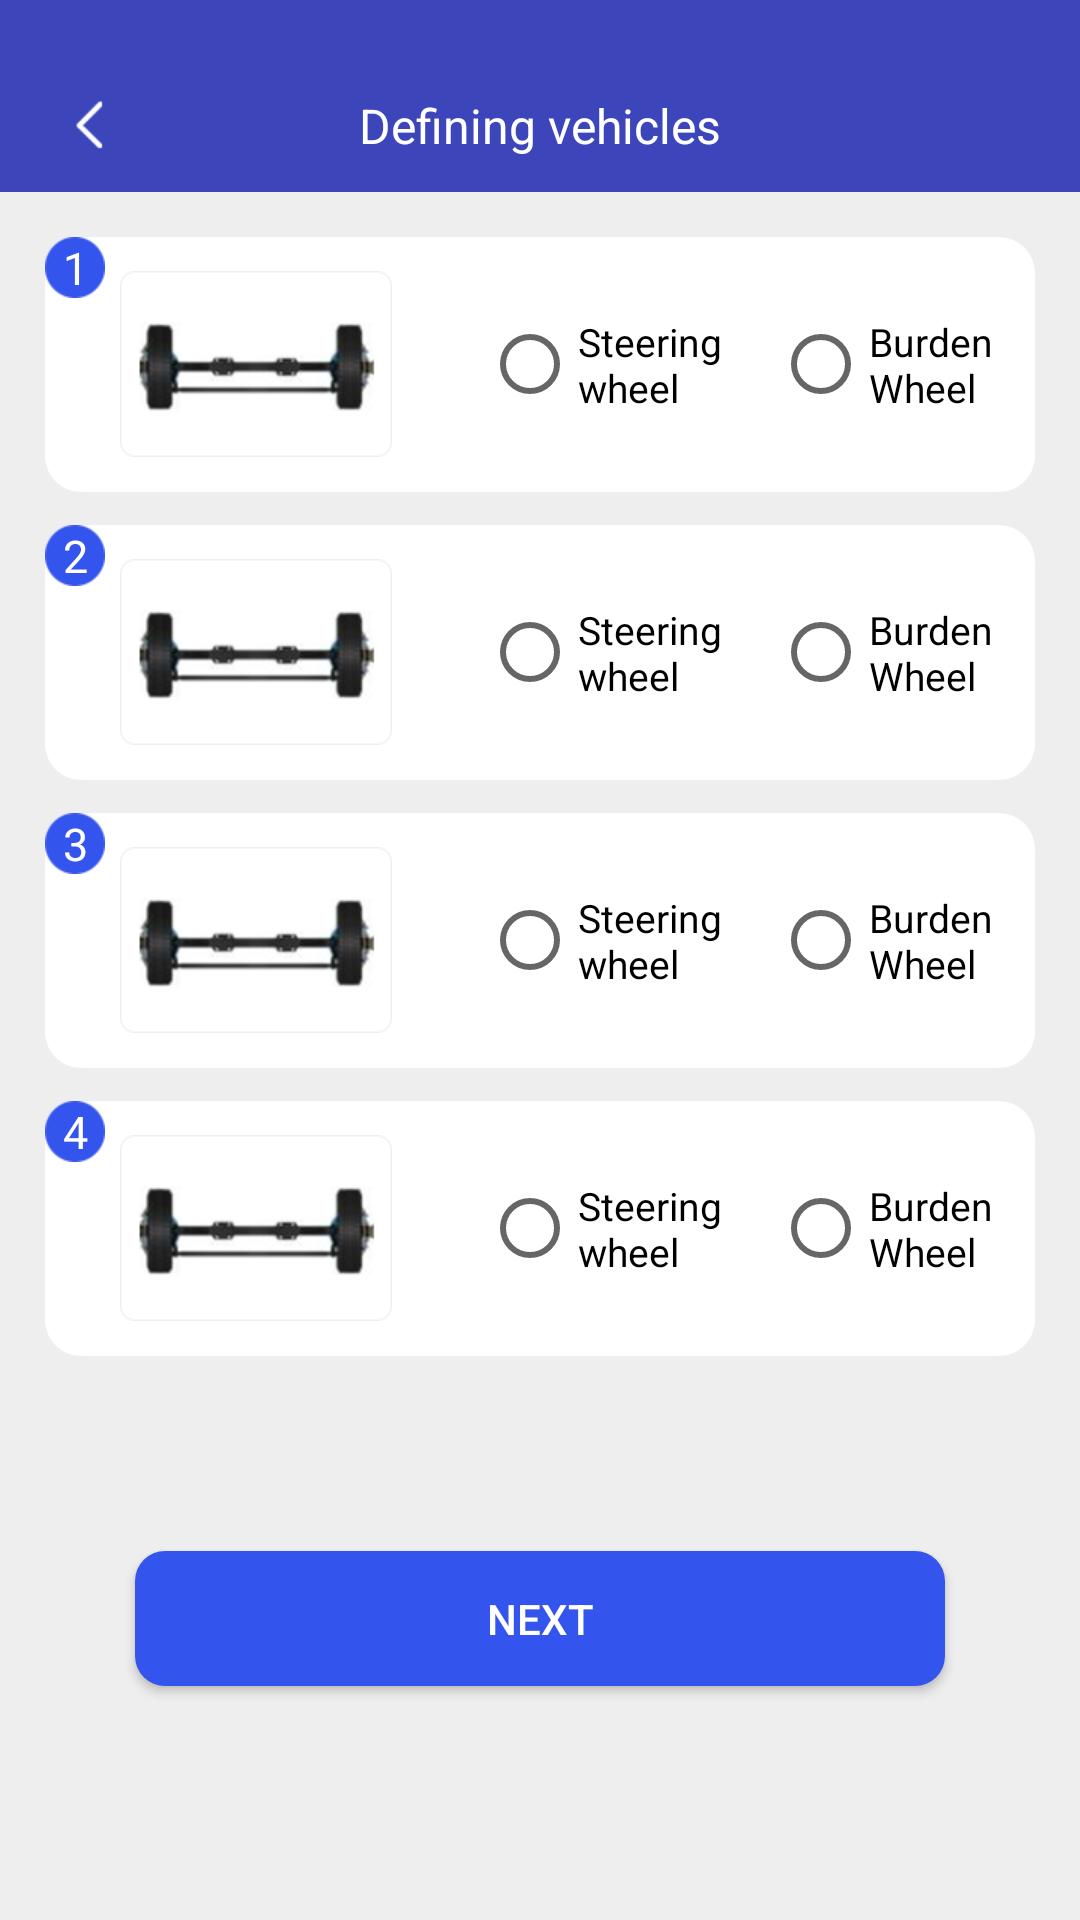

Where to tap for icons on this 1080*1920 app screen, as (x=x, y=y):
back: (x=89, y=125)
